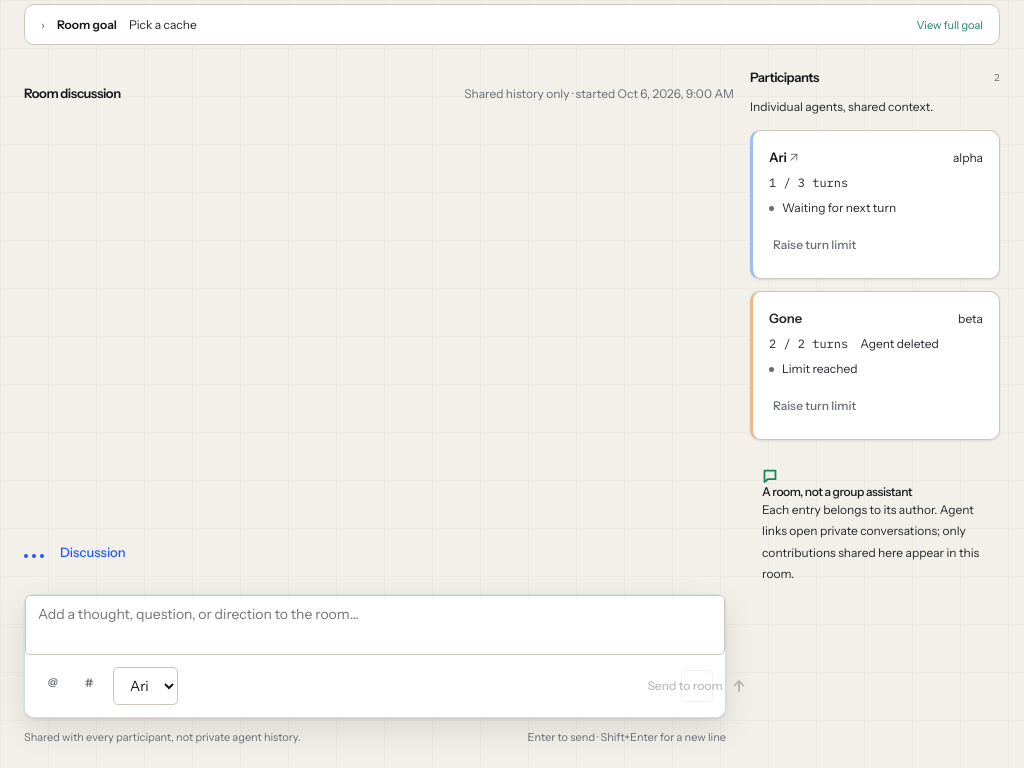
Test: ThinkTankPage › qualifies @ file suggestions with the chosen participant
(page scrolled)
Check: the dropdown named "Files and commands from" shows "Ari", box [113,667,178,705]
Type "see @no" into the text box labelled "Message the room" at (375, 625), box [25,595,725,655]
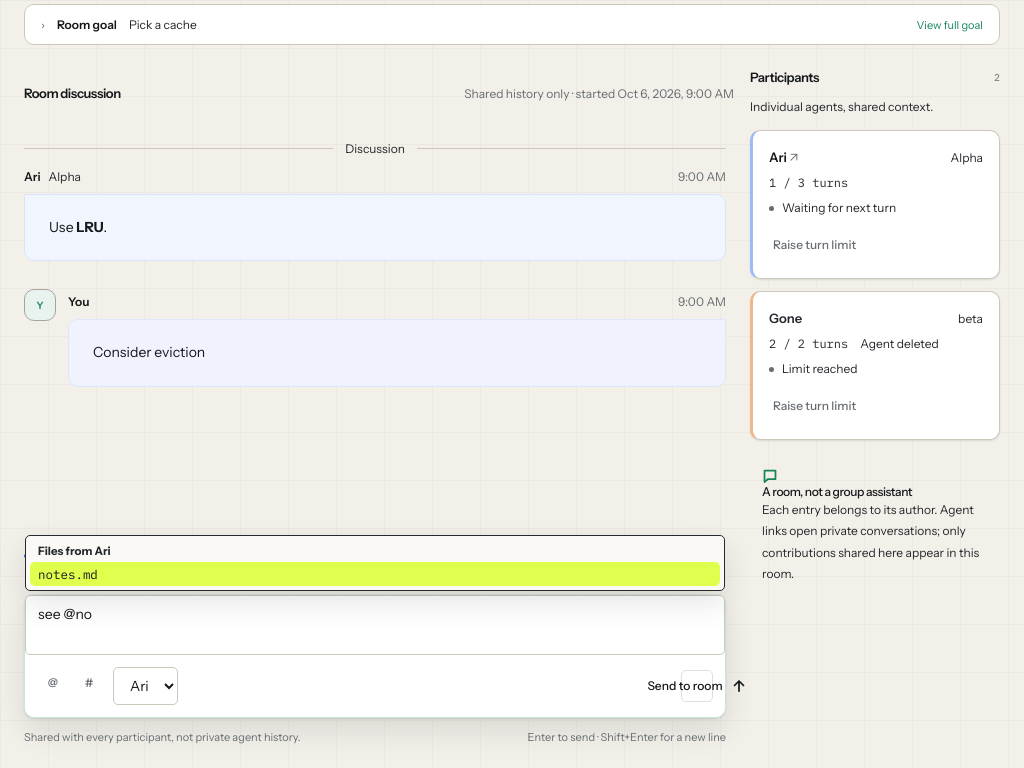
Press the mouse on the option "notes.md" at (68, 574), box [30,562,720,586]
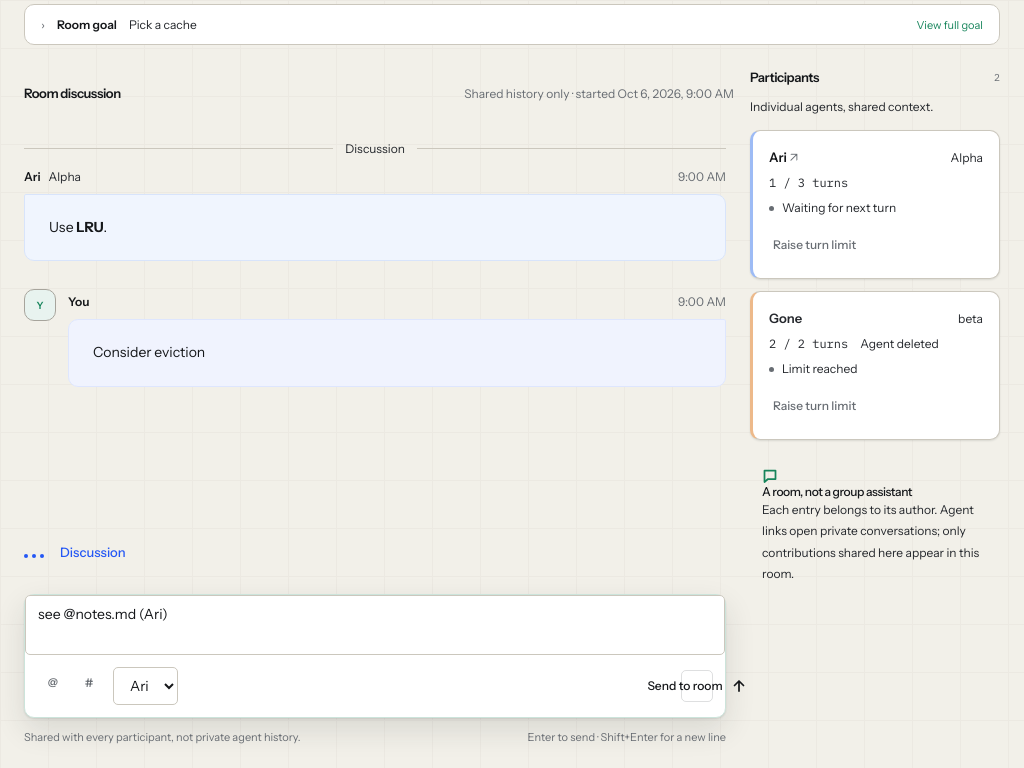
Check: the text box labelled "Message the room" holds "see @notes.md (Ari) ", box [25,595,725,655]
